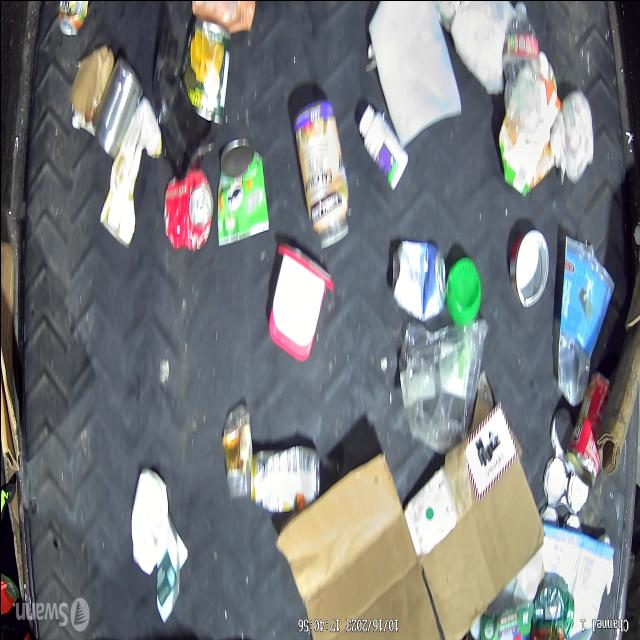can: (218, 136, 268, 245), (562, 366, 606, 478), (160, 166, 212, 259), (390, 237, 446, 321), (245, 448, 321, 509)
milk_jug: (367, 0, 462, 158)
